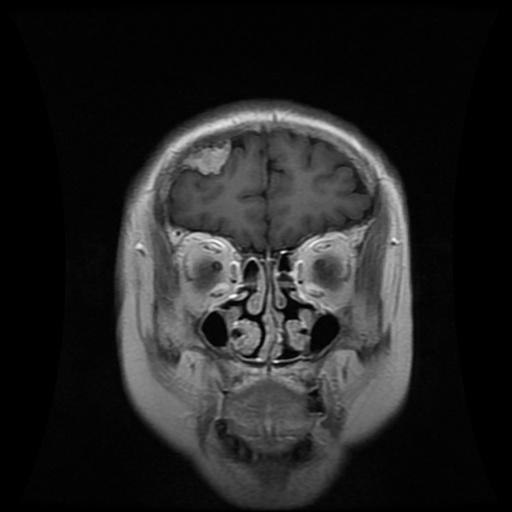meningioma: (182, 140, 231, 174)
